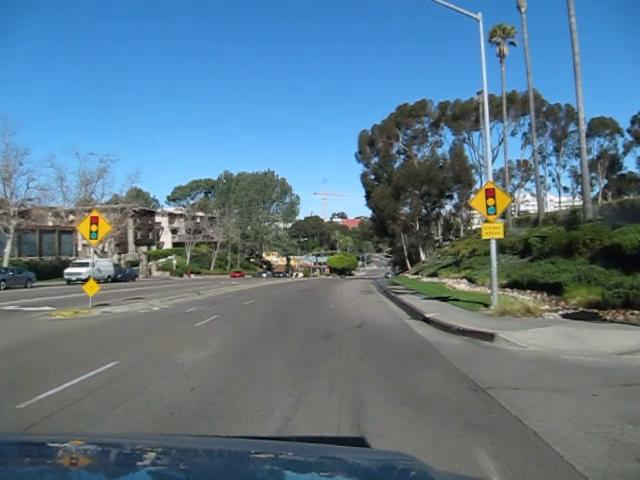signalAhead: (468, 179, 512, 223), (74, 209, 113, 246)
